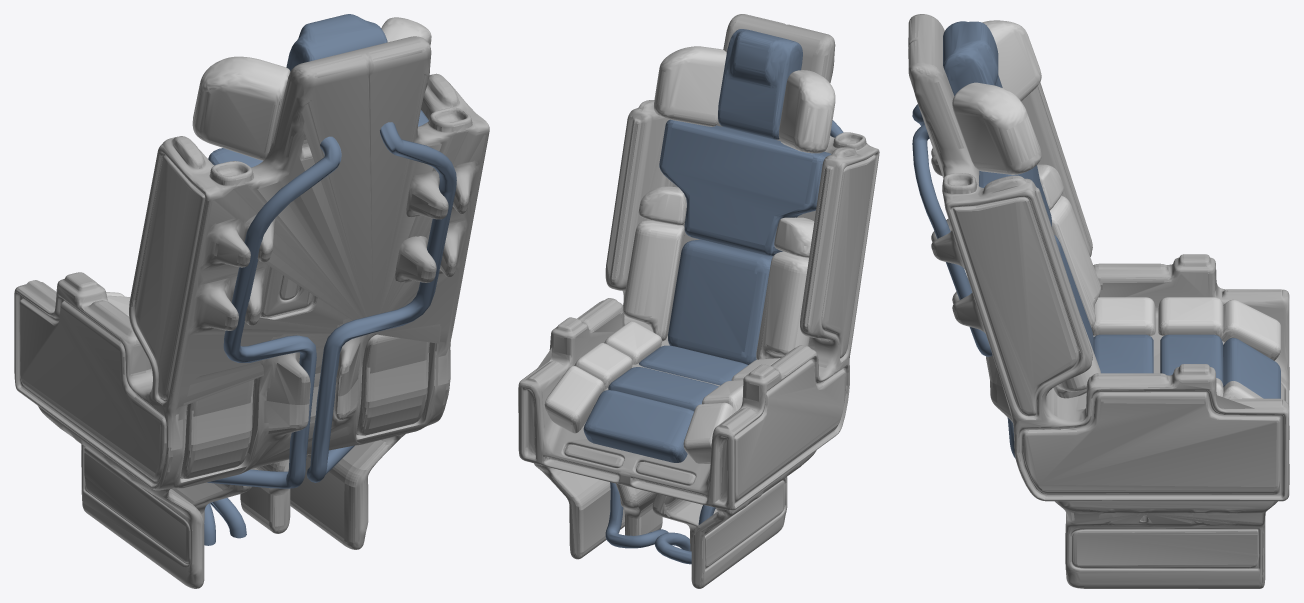
The model's file is sedie.fbx.
3 views of the same model, side by side, from view 1: azimuth 30°, elevation 25°; view 2: azimuth 150°, elevation 25°; view 3: azimuth 270°, elevation 25° (orthographic). The views are drawn at different scales.
Parts seen in each view (by area): view 1: Spaceship_chair_Cube.005; view 2: Spaceship_chair_Cube.005; view 3: Spaceship_chair_Cube.005.
Part boxes in pixels (x1,y1,x2,y2): Spaceship_chair_Cube.005: (14,14,489,588); Spaceship_chair_Cube.005: (518,14,879,588); Spaceship_chair_Cube.005: (908,14,1289,588).
Bounding box in the file's own units: 76.72 × 154 × 101.
